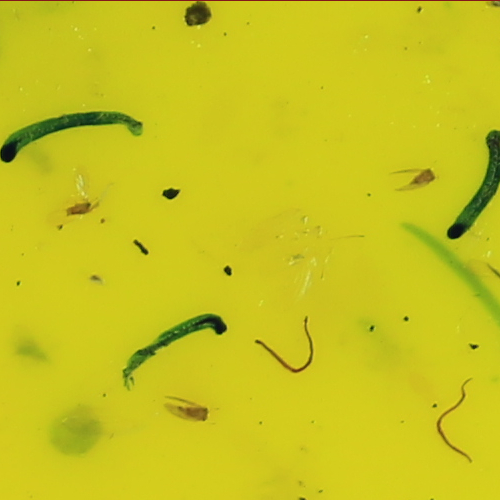psylla: (64, 193, 106, 217), (175, 401, 213, 420), (414, 163, 443, 183)
